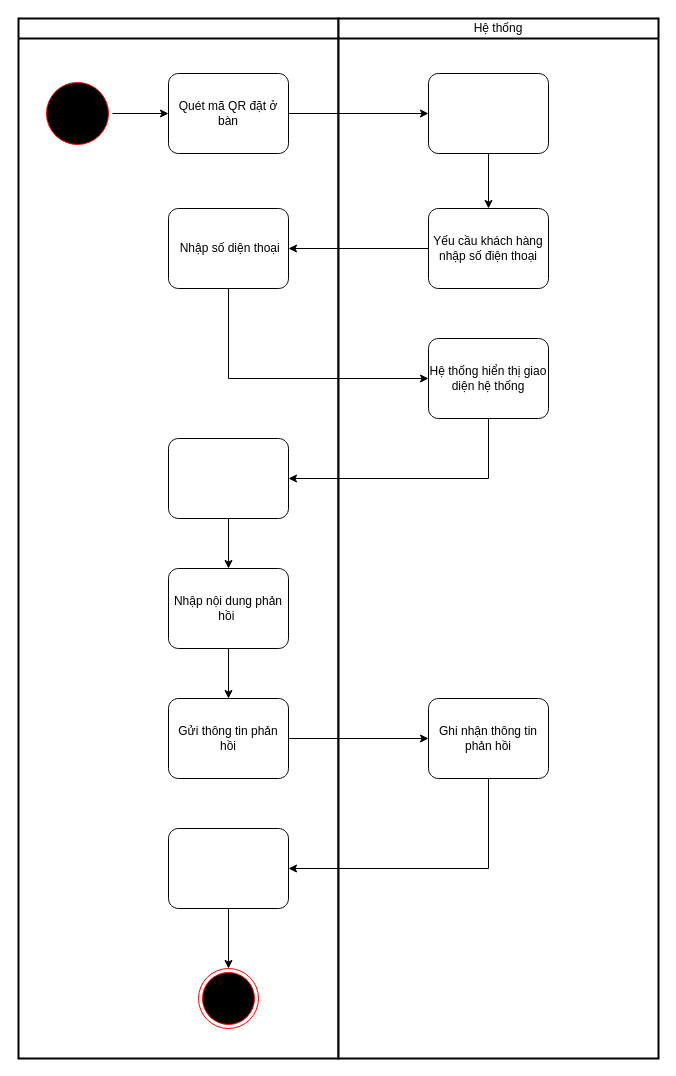
Image size: 676x1076. Some labels were removed from this diagram. The box of each missing label's shape, as (x1, y1, x2, y2) in pixels:
Chọn đơn hàng muốn phản hồ: (168, 438, 288, 518)
Hệ thống xác nhận khách hàng quét mã QR: (428, 72, 548, 154)
Khách hàng: (17, 17, 339, 1059)
Thoát khỏi hệ thống: (168, 828, 288, 908)
